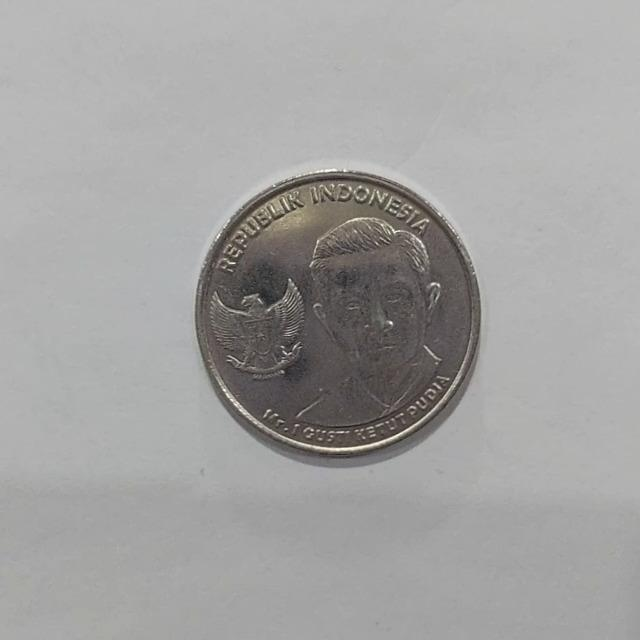Rp100: (193, 166, 482, 461), (293, 214, 447, 424)
